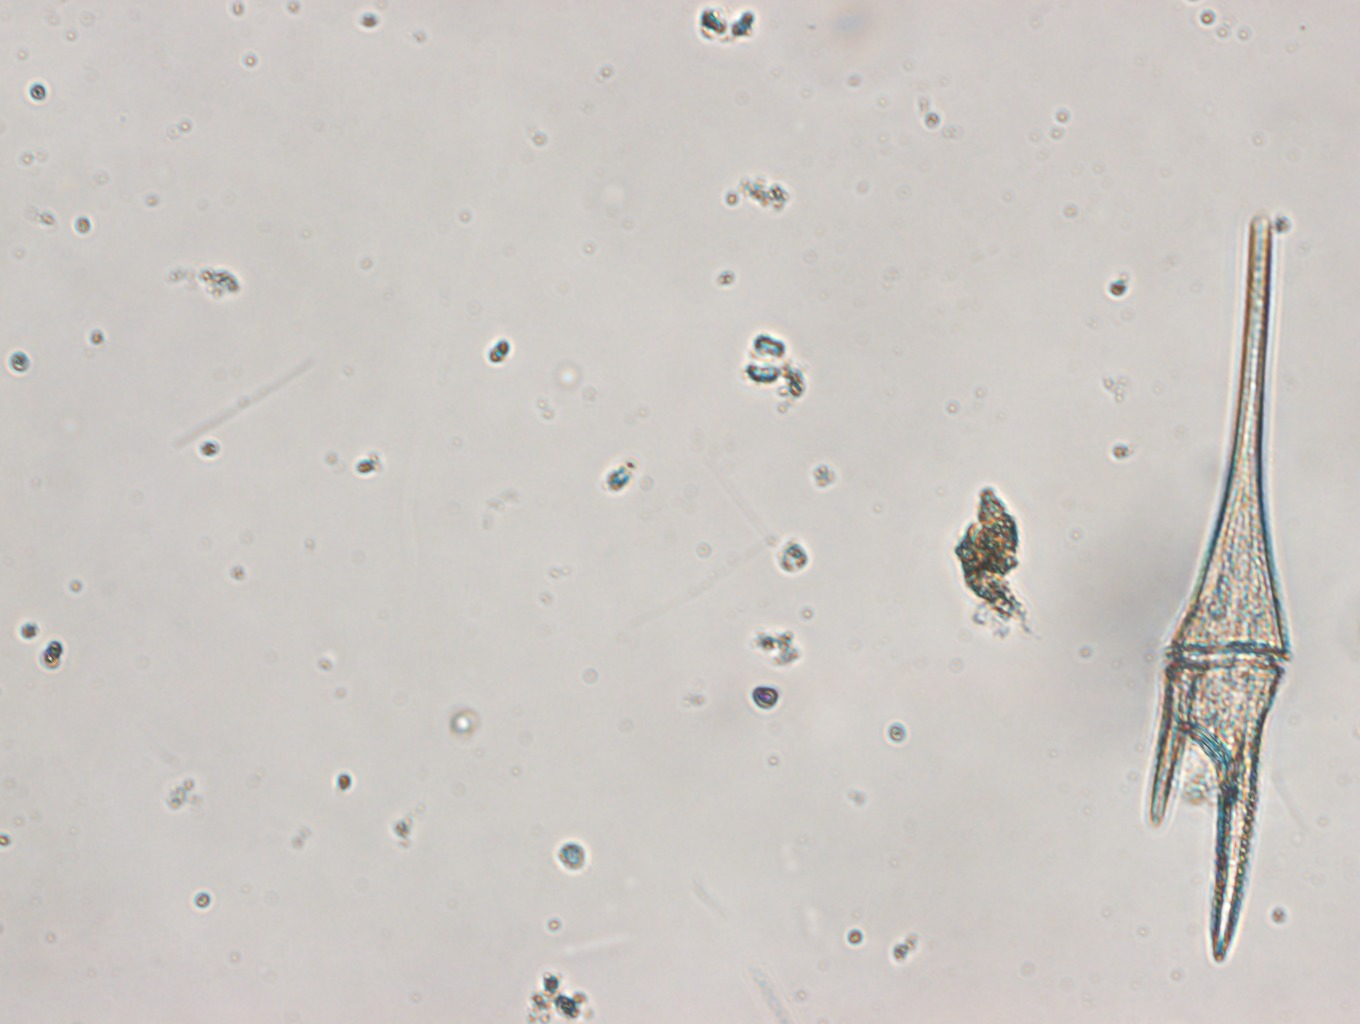ceratium furca: (1148, 214, 1289, 964)
